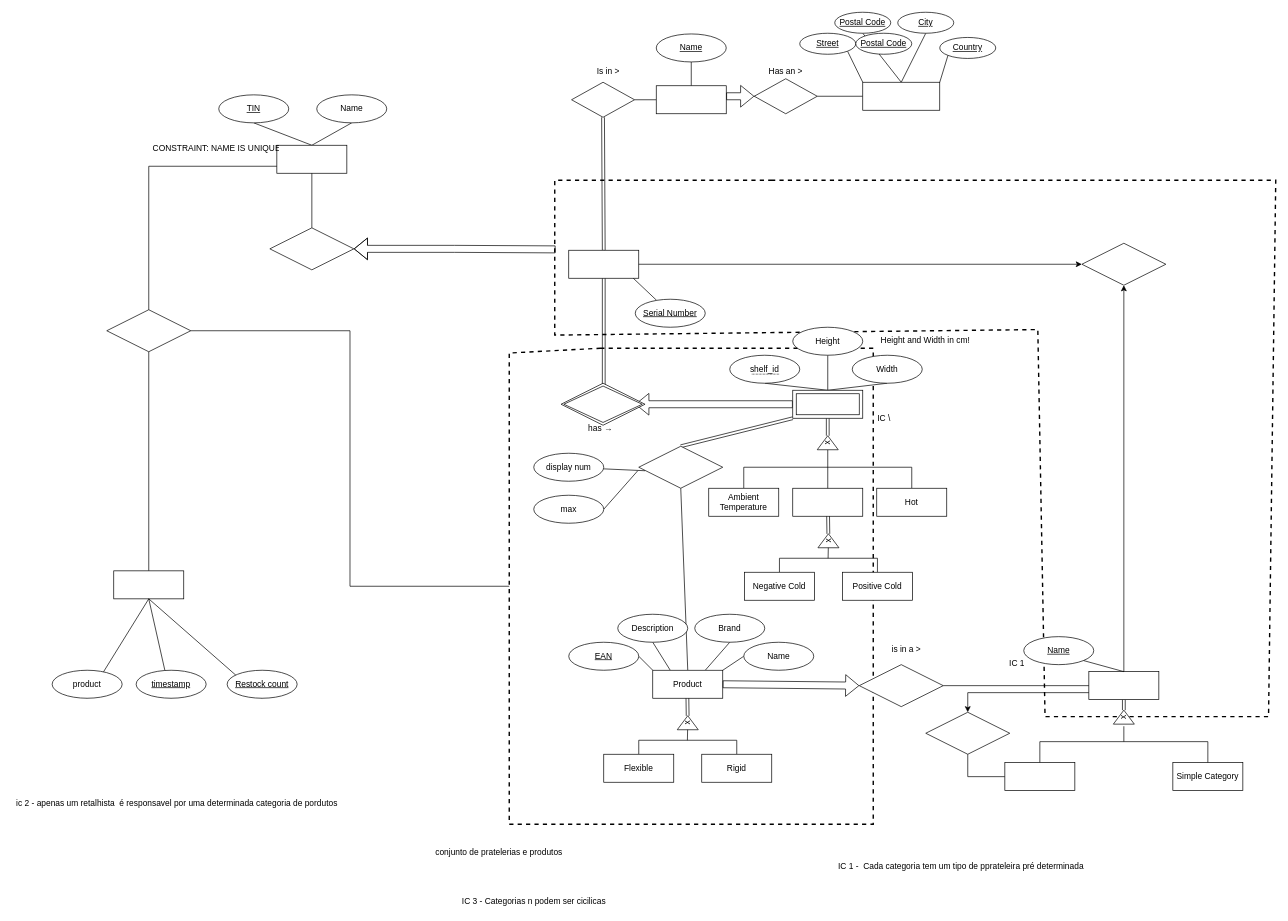
This 1288x921 diagram has some shape labels left out. Each missing label, with the box of its shape:
Address: (862, 82, 940, 110)
Category: (1088, 671, 1159, 700)
Cold: (792, 488, 863, 516)
Restock Event: (113, 570, 184, 599)
Retail Place: (656, 85, 726, 114)
Retailer: (276, 145, 347, 173)
shelf: (792, 390, 863, 418)
Super Category: (1004, 762, 1075, 791)
Vending Machine: (568, 250, 639, 278)
